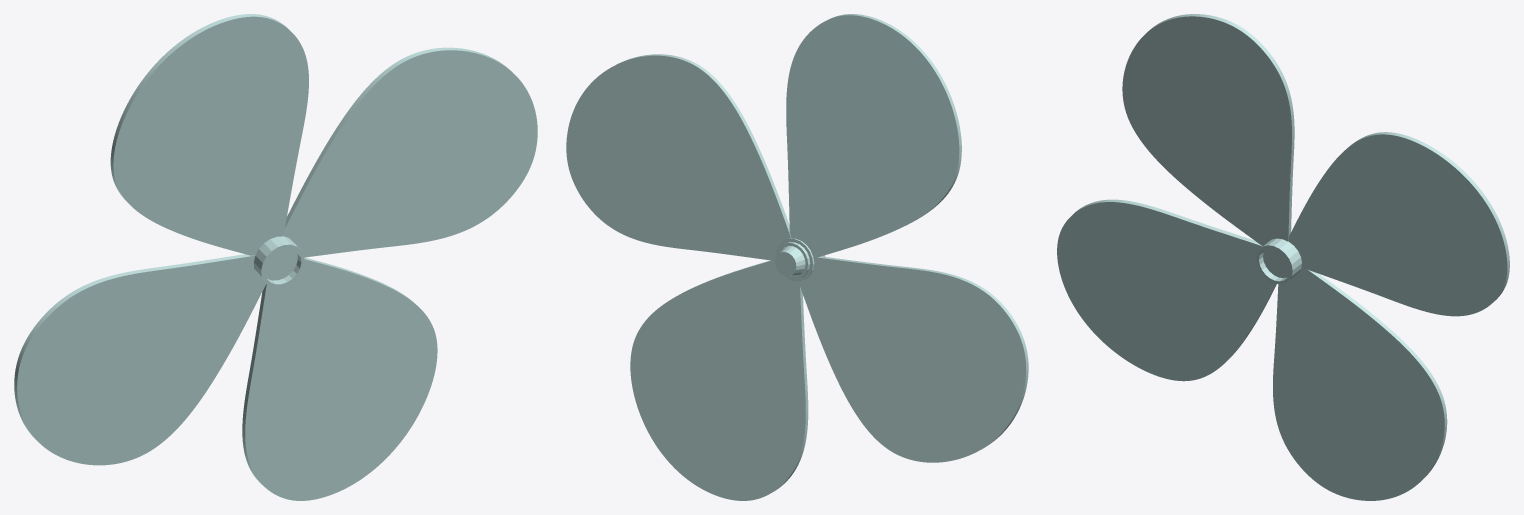
Rendered from ToonFan.fbx.
The picture shows the model from 3 angles, left to right: view 1: azimuth 30°, elevation 25°; view 2: azimuth 150°, elevation 25°; view 3: azimuth 330°, elevation 25°; orthographic projection. The views are drawn at different scales.
Parts seen in each view (by area): view 1: beveledSurface4, beveledSurface5, beveledSurface1, beveledSurface3, pCylinder1; view 2: beveledSurface1, beveledSurface5, beveledSurface3, beveledSurface4, pCylinder1; view 3: beveledSurface3, beveledSurface4, beveledSurface5, beveledSurface1, pCylinder1.
Boxes of the visible parts, x1,y1,x2,y2 form: beveledSurface4: [283, 47, 537, 257]; beveledSurface5: [110, 14, 308, 255]; beveledSurface1: [14, 254, 265, 465]; beveledSurface3: [242, 257, 437, 500]; pCylinder1: [253, 236, 304, 287]; beveledSurface1: [798, 256, 1028, 462]; beveledSurface5: [786, 14, 961, 258]; beveledSurface3: [630, 260, 808, 500]; beveledSurface4: [566, 54, 791, 260]; pCylinder1: [775, 238, 825, 281]; beveledSurface3: [1273, 268, 1447, 500]; beveledSurface4: [1288, 132, 1509, 316]; beveledSurface5: [1122, 14, 1294, 245]; beveledSurface1: [1057, 199, 1276, 381]; pCylinder1: [1256, 238, 1301, 284].
Size of the model in its own units: 19.17 by 19.08 by 2.37.
